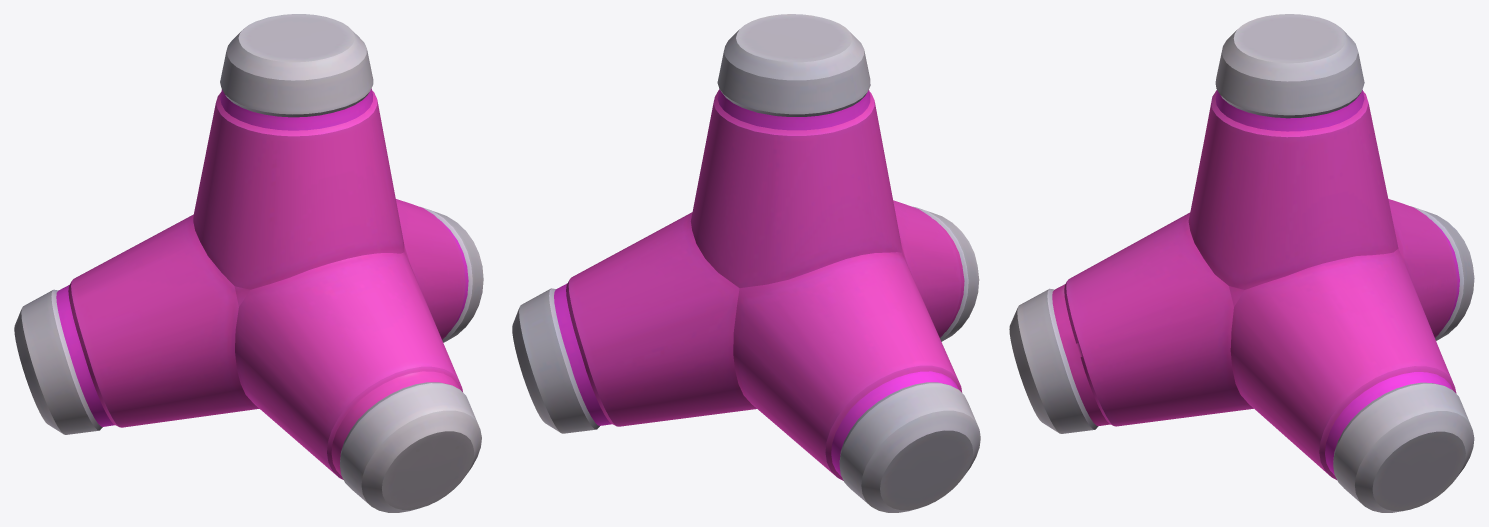
File: Tetrapod.fbx
3 views of the same model, side by side, from view 1: azimuth 30°, elevation 25°; view 2: azimuth 150°, elevation 25°; view 3: azimuth 270°, elevation 25° (orthographic).
Visible parts, largest first — view 1: PRP_S04_Tetrapod_0; view 2: PRP_S04_Tetrapod_0; view 3: PRP_S04_Tetrapod_0.
Part boxes in pixels (bbox=[...]): PRP_S04_Tetrapod_0: bbox=[14, 14, 483, 512]; PRP_S04_Tetrapod_0: bbox=[512, 14, 980, 512]; PRP_S04_Tetrapod_0: bbox=[1009, 14, 1474, 512].
Size of the model in its own units: 18.19 by 15.04 by 16.3.
